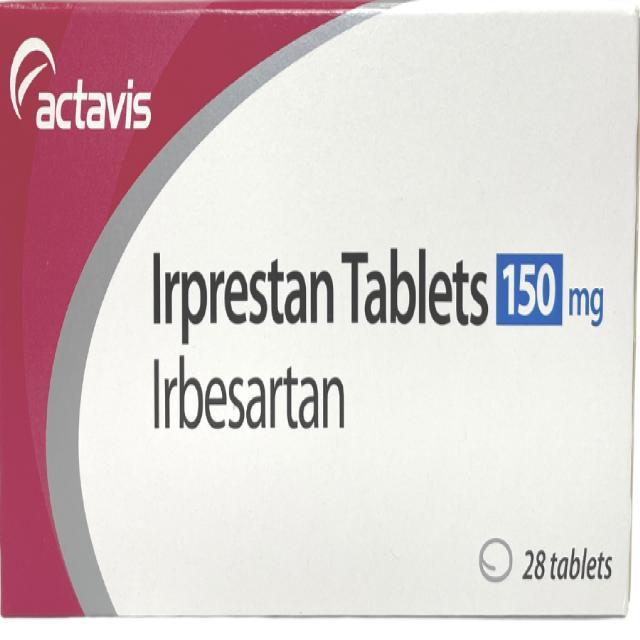drug-name: (0, 36, 151, 136)
